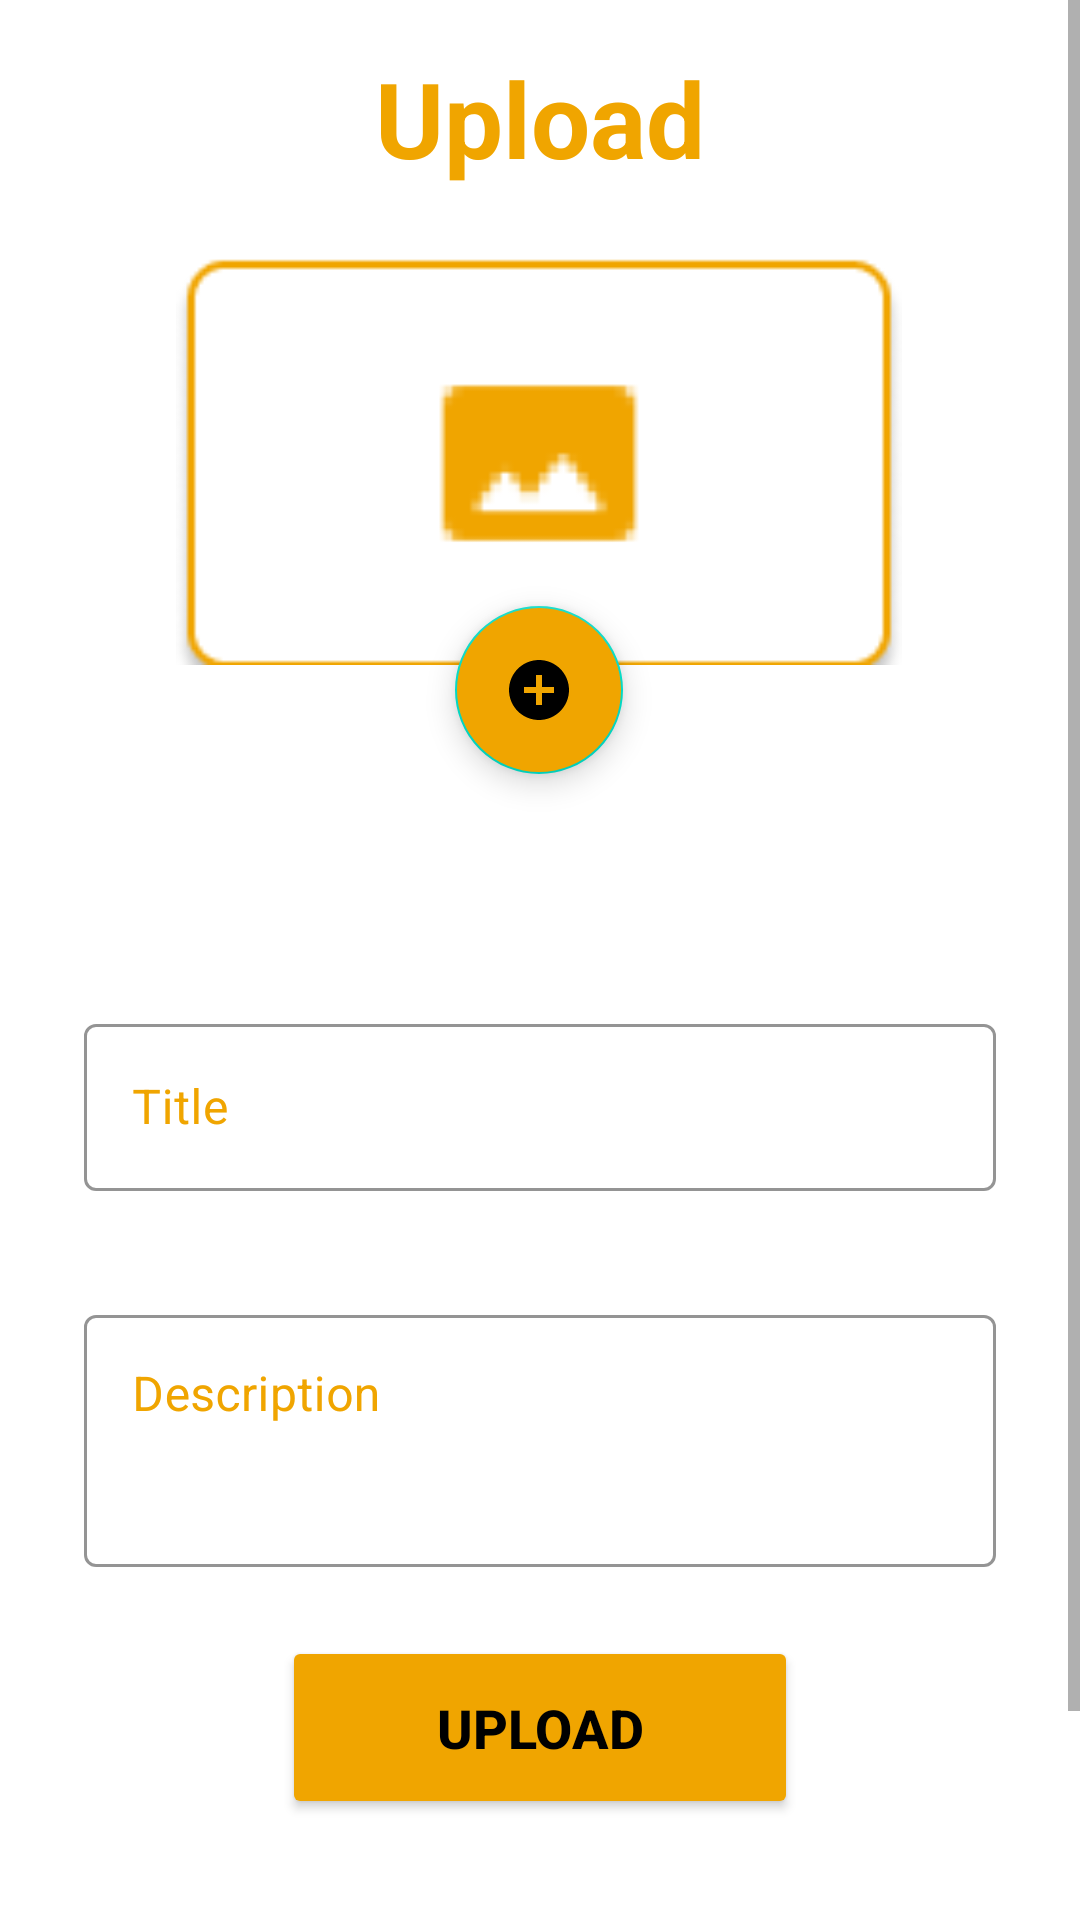

Named icons in this screenshot (1080x1920) and their centers, (x=x, y=y):
add circle: (x=539, y=690)
